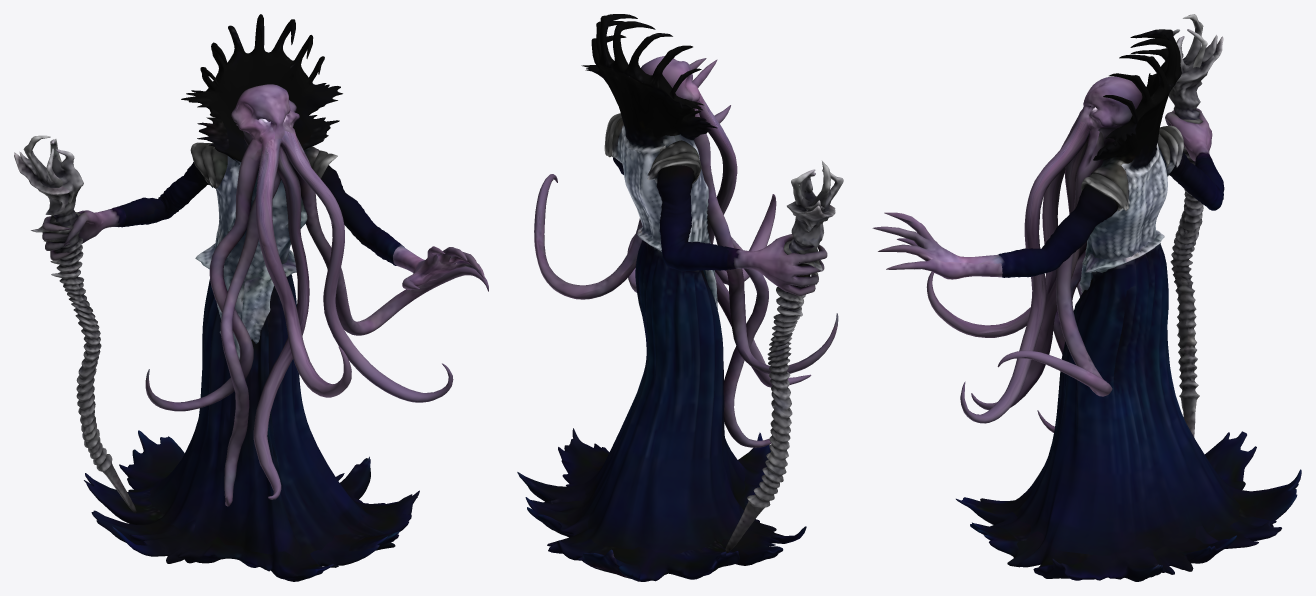
Rendered from MZ4250 - Ulitharid_1.glb.
3 views of the same model, side by side, from view 1: azimuth 30°, elevation 25°; view 2: azimuth 150°, elevation 25°; view 3: azimuth 270°, elevation 25° (orthographic). The views are drawn at different scales.
Parts seen in each view (by area): view 1: Midus.001; view 2: Midus.001; view 3: Midus.001.
Boxes of the visible parts, box(x1,y1,x2,y2) form: Midus.001: box(14, 14, 488, 581); Midus.001: box(517, 14, 843, 581); Midus.001: box(872, 14, 1301, 581).
Bounding box in the file's own units: 120 × 156 × 120.
1 material, 1 textured.
